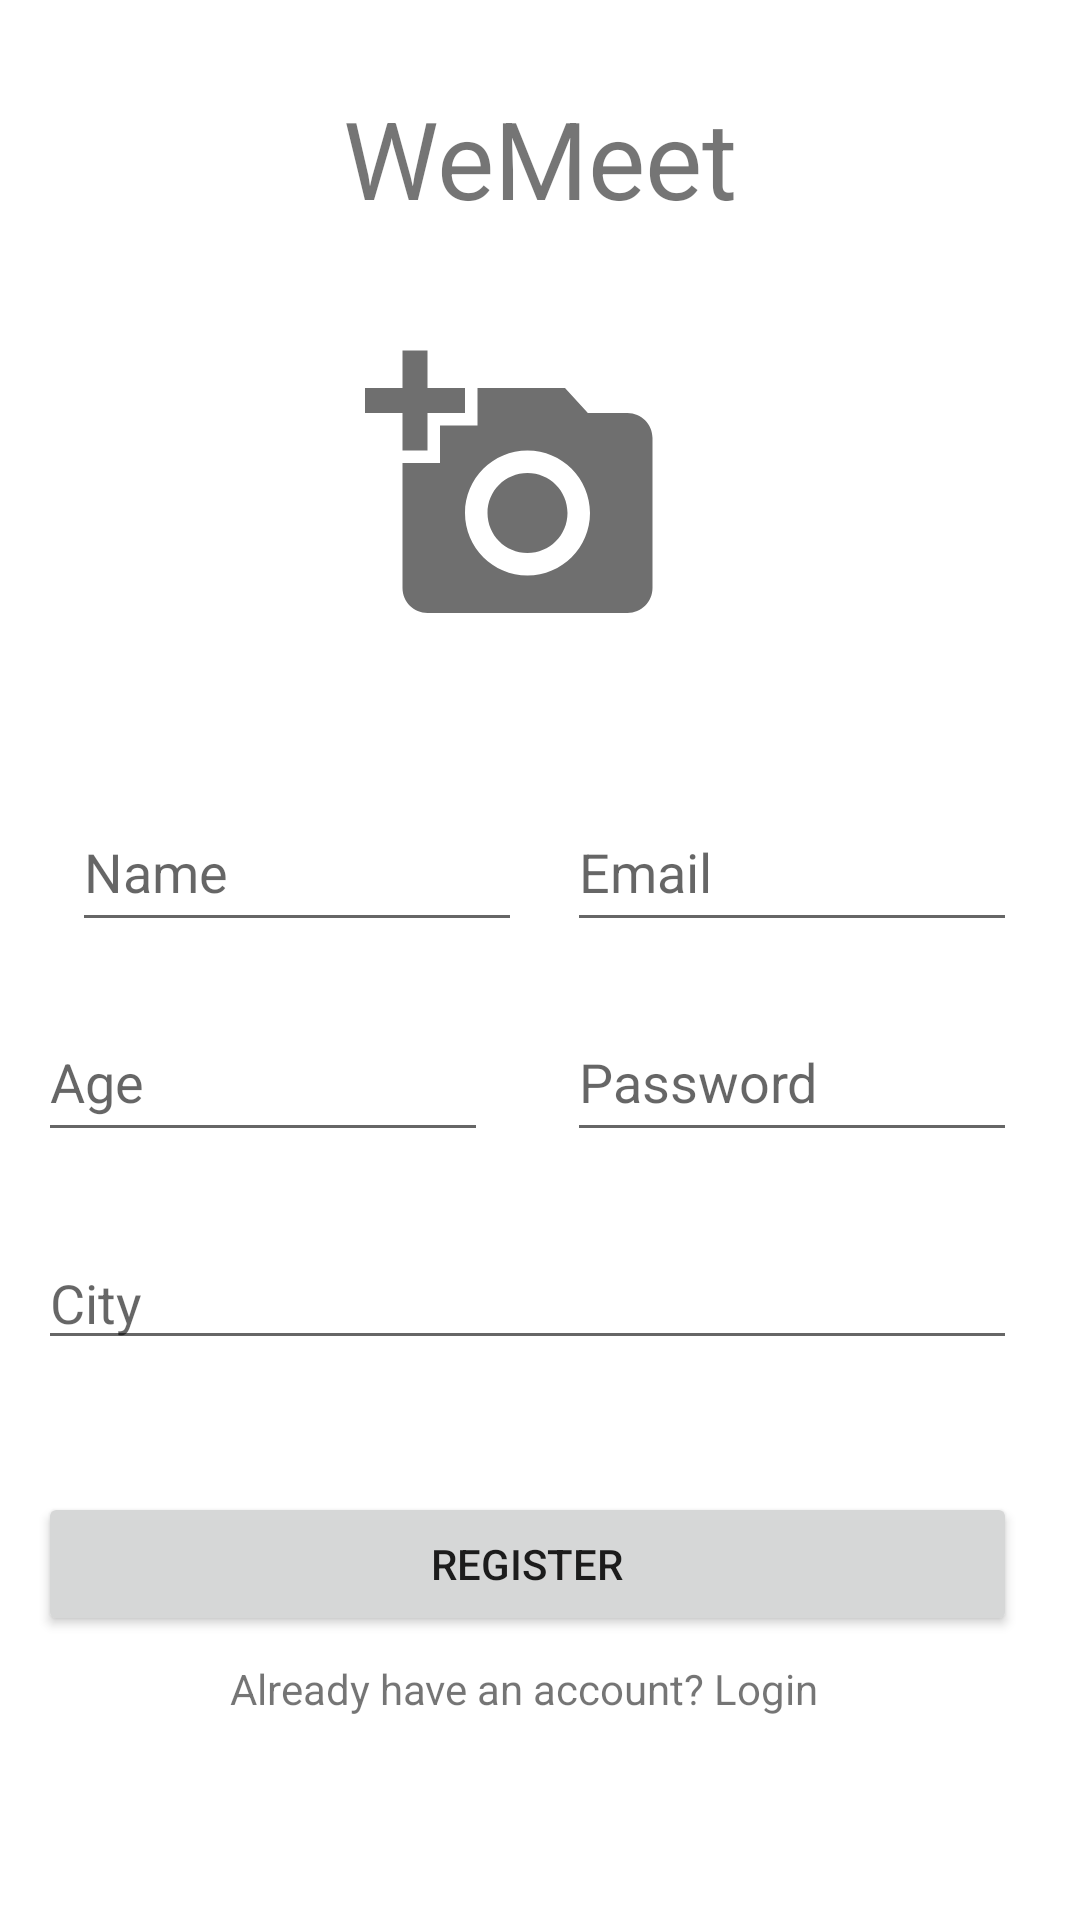

Named icons in this screenshot (1080*1920) and their centers, (x=x, y=y):
add photo: (x=509, y=481)
